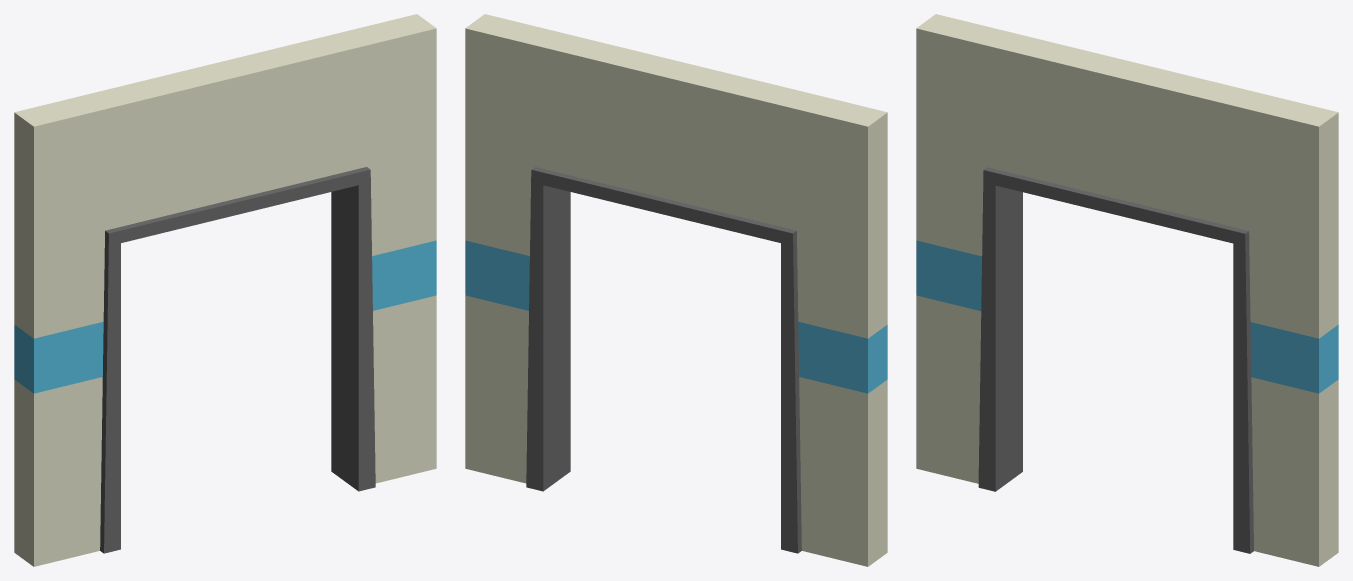
Rendered from door02-hospital.fbx.
3 renders of one model, left to right at view 1: azimuth 30°, elevation 25°; view 2: azimuth 150°, elevation 25°; view 3: azimuth 330°, elevation 25°, orthographic.
Parts seen in each view (by area): view 1: door02-hospital; view 2: door02-hospital; view 3: door02-hospital.
Boxes of the visible parts, x1,y1,x2,y2 form: door02-hospital: (14, 14, 436, 566); door02-hospital: (465, 14, 887, 566); door02-hospital: (916, 14, 1338, 566).
Size of the model in its own units: 543 by 567 by 64.2.
